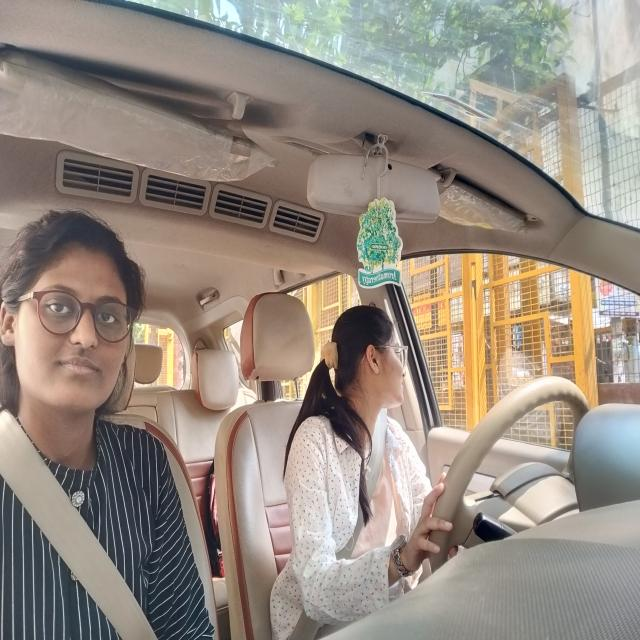LeftRight: (328, 301, 417, 414)
person: (3, 224, 148, 407)
